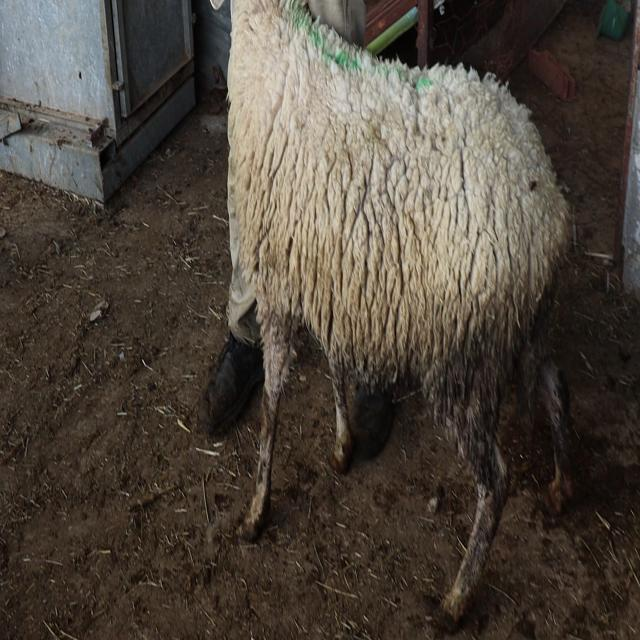Score_4: (228, 0, 572, 622)
